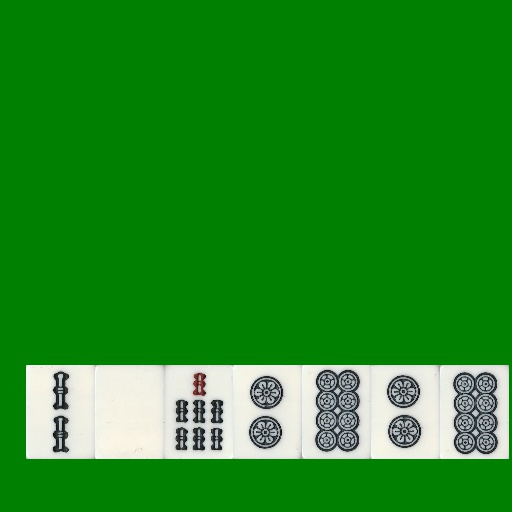2p: (233, 365, 302, 459), (371, 365, 440, 459)
2s: (26, 365, 95, 459)
7s: (164, 365, 233, 459)
8p: (302, 365, 371, 459), (440, 365, 509, 459)
white: (95, 365, 164, 459)
